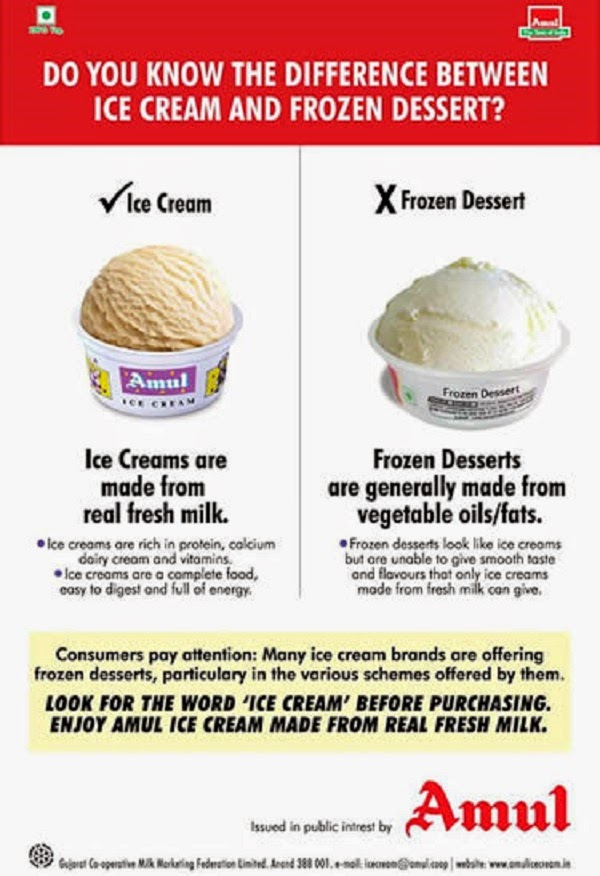VEG: (34, 5, 58, 24)
